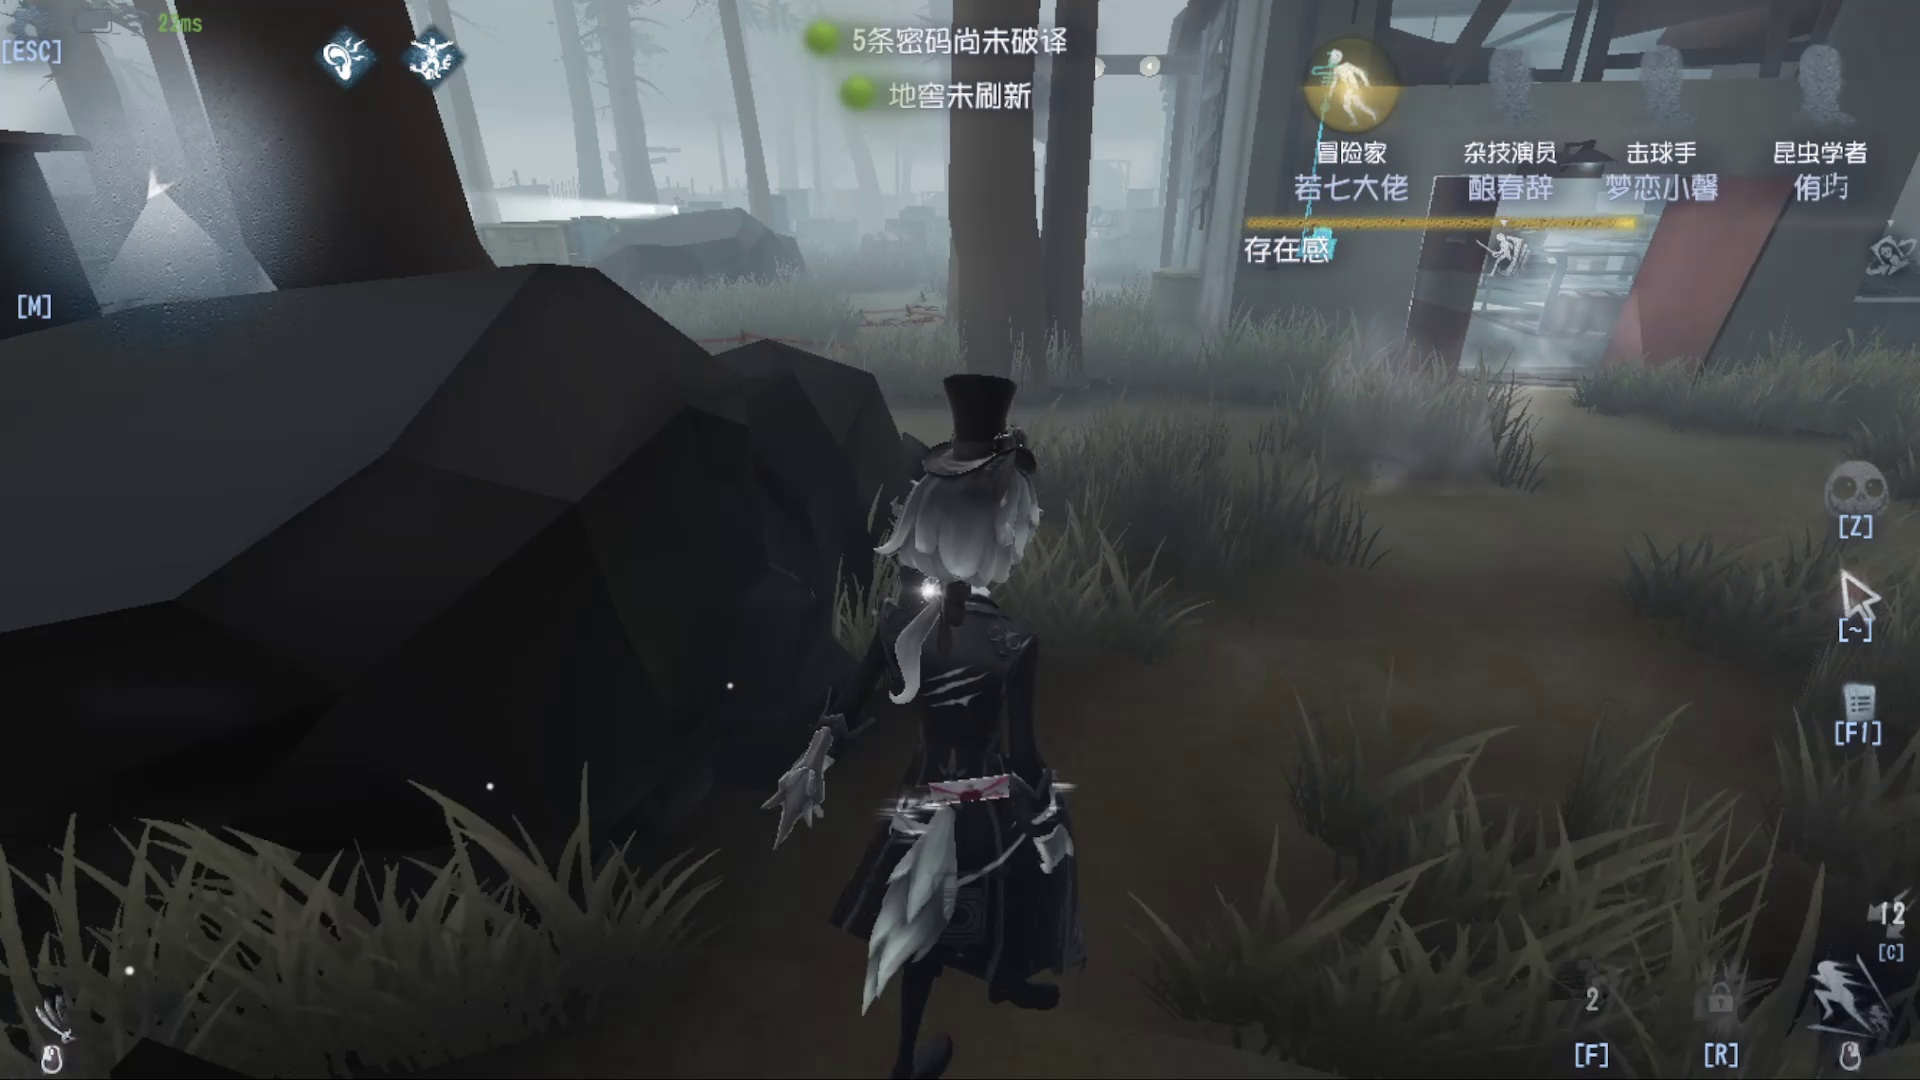密码机: (1262, 44, 1369, 305)
脚印: (860, 272, 949, 339)
